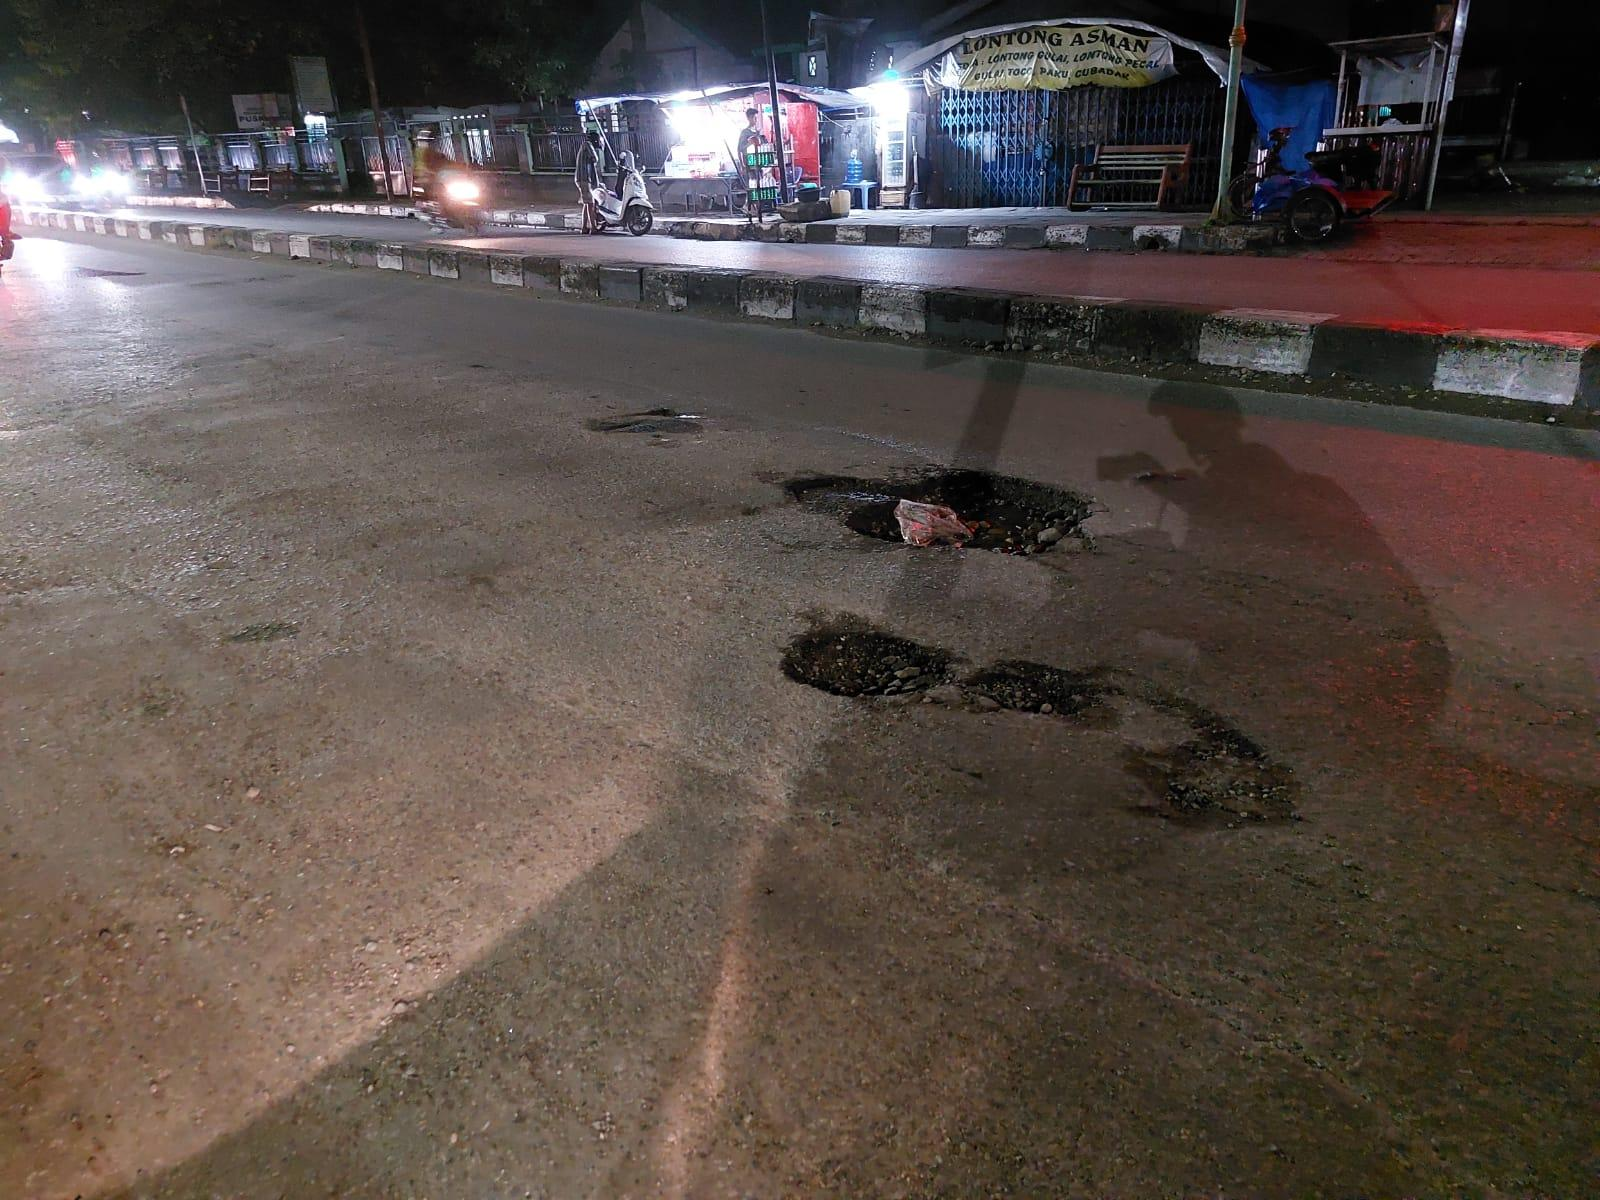Pothole: (641, 563, 1398, 868), (707, 431, 1174, 611), (491, 364, 756, 468)
